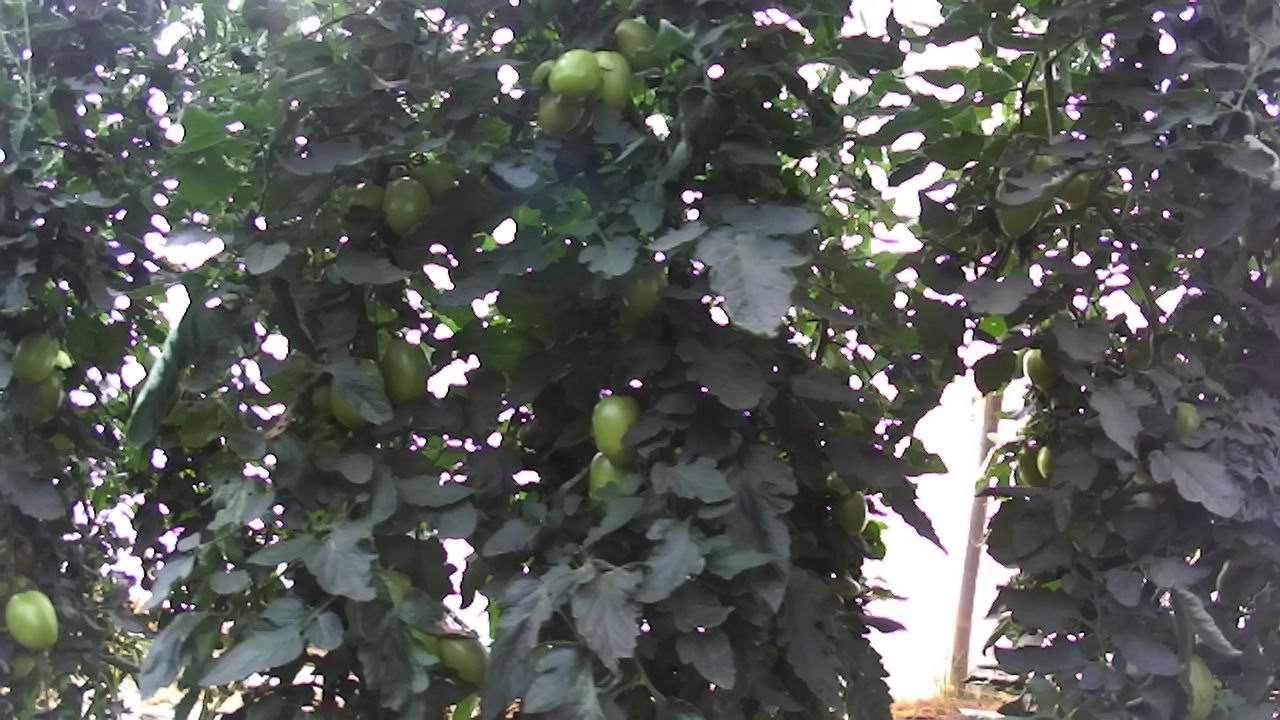tomato: (585, 389, 648, 468), (0, 588, 67, 651), (583, 46, 635, 122), (379, 335, 433, 407), (378, 174, 434, 242), (531, 87, 594, 140), (7, 330, 60, 389), (545, 48, 600, 100), (827, 487, 869, 538)
